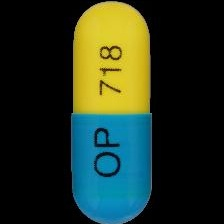51285-538: (0, 0, 224, 224)
